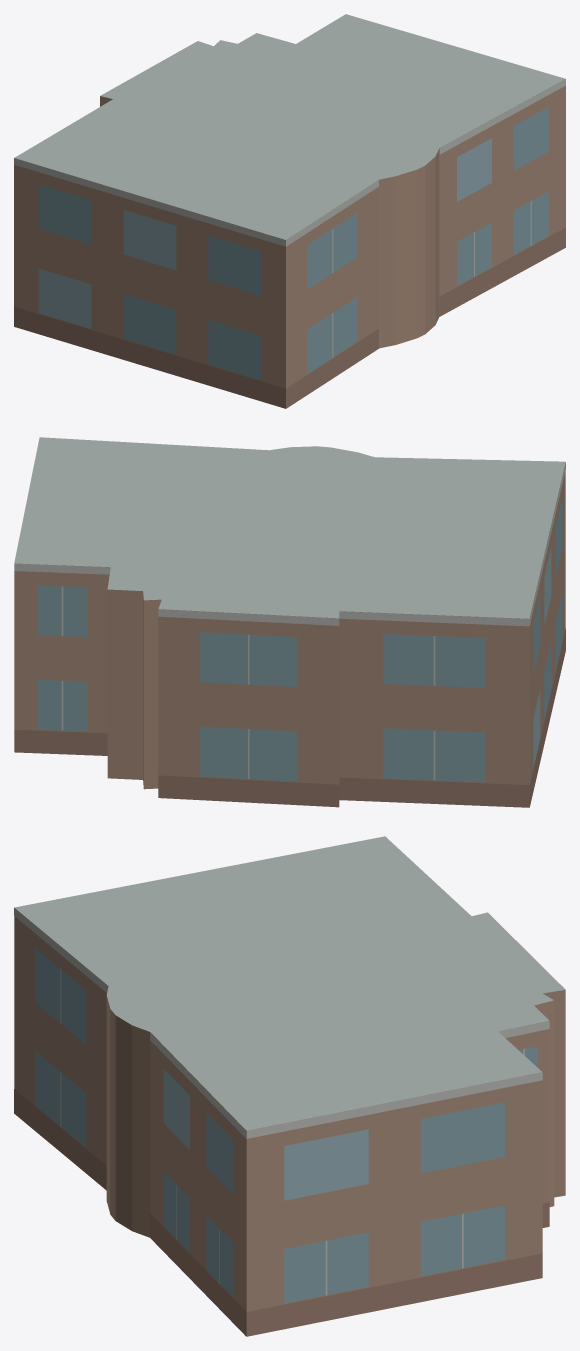
File: survey-upis-32866974.glb
3 views of the same model, one above another, from view 1: azimuth 30°, elevation 25°; view 2: azimuth 150°, elevation 25°; view 3: azimuth 270°, elevation 25° (orthographic). The views are drawn at different scales.
Visible parts, largest first — view 1: survey-upis-32866974.tmp; view 2: survey-upis-32866974.tmp; view 3: survey-upis-32866974.tmp.
Boxes of the visible parts, <box> form: survey-upis-32866974.tmp: <box>14,14,565,408</box>; survey-upis-32866974.tmp: <box>14,437,565,807</box>; survey-upis-32866974.tmp: <box>14,836,565,1336</box>.
Bounding box in the file's own units: 18.73 × 6.1 × 14.82.
